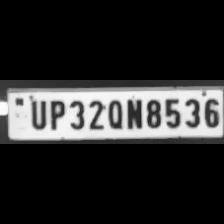2: (86, 97, 104, 130)
3: (66, 97, 84, 130), (182, 96, 200, 128)
5: (162, 96, 182, 128)
6: (201, 96, 221, 128)
8: (143, 96, 161, 130)
N: (124, 96, 142, 130)
P: (46, 97, 64, 130)
Q: (105, 97, 123, 129)
U: (26, 97, 46, 129)
